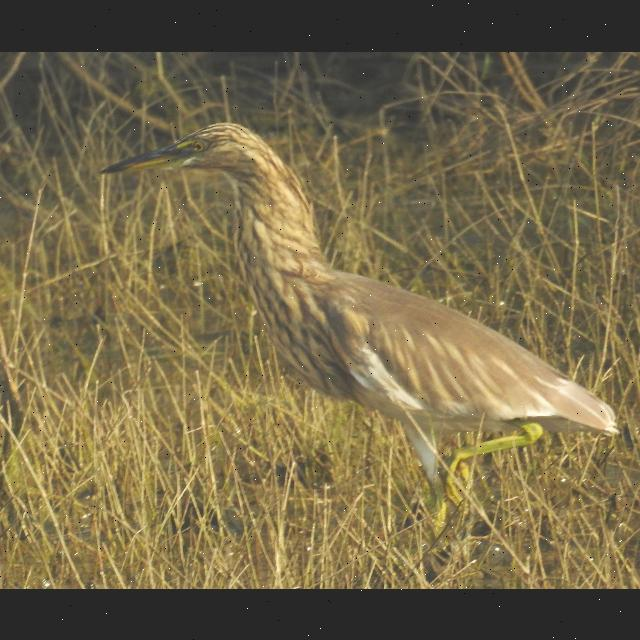heron: (92, 115, 618, 533)
